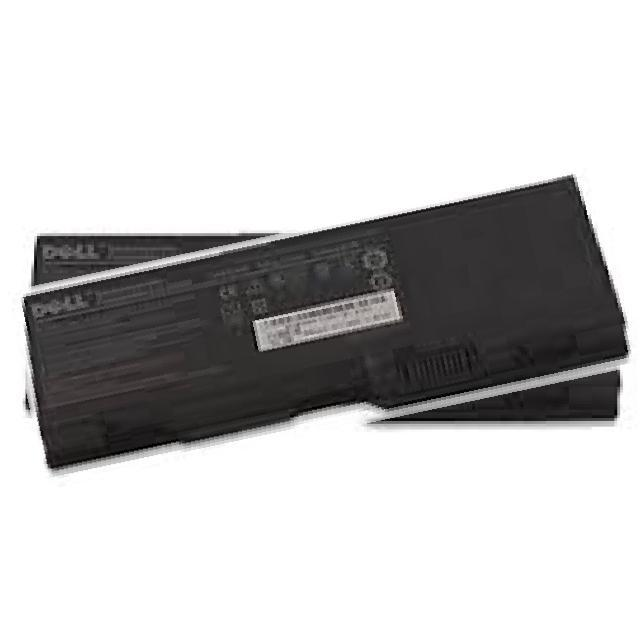Battery: (10, 167, 638, 474)
